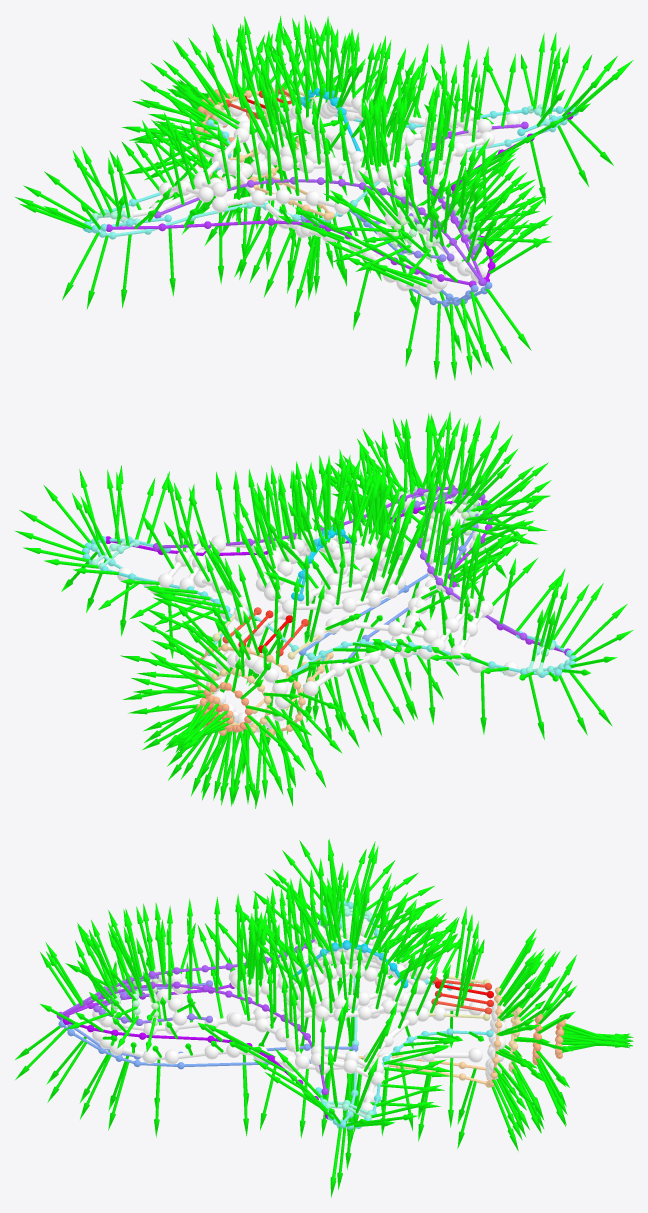
The model's file is author1_ship.gltf.
3 views of the same model, one above another, from view 1: azimuth 30°, elevation 25°; view 2: azimuth 150°, elevation 25°; view 3: azimuth 270°, elevation 25° (orthographic). The views are drawn at different scales.
Bounding box in the file's own units: 0.8765 × 0.3847 × 0.8377.
